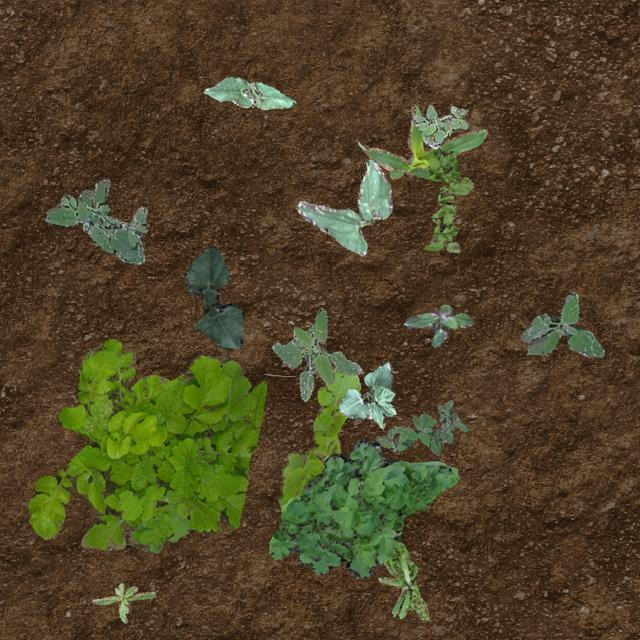crop: (356, 104, 486, 178), (296, 158, 392, 254), (182, 244, 244, 348), (338, 361, 394, 428), (202, 75, 294, 108)
weed: (24, 338, 266, 552), (268, 438, 458, 576), (278, 366, 360, 506), (45, 178, 146, 264), (270, 308, 362, 400), (520, 290, 604, 356), (422, 148, 472, 252), (374, 400, 466, 454), (378, 542, 428, 620), (402, 304, 472, 346), (410, 104, 468, 148), (92, 582, 154, 622)
